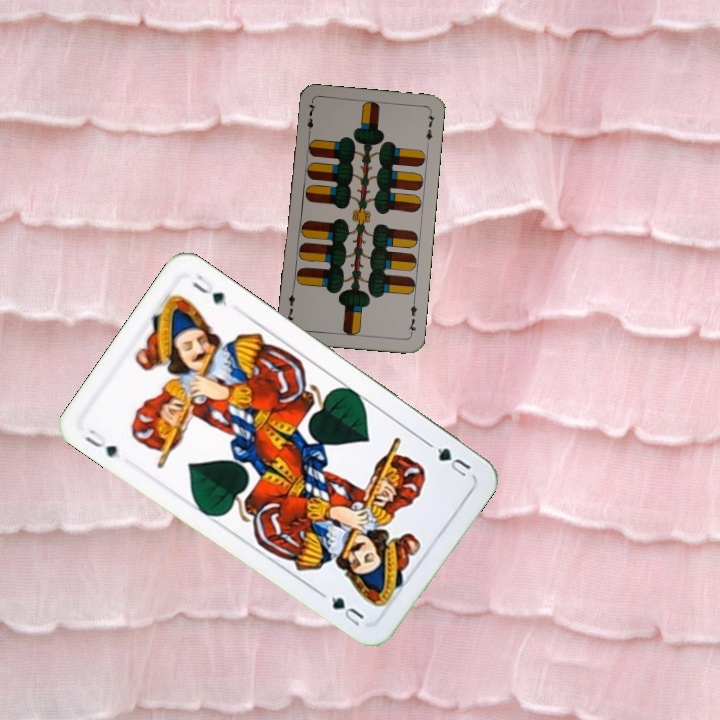E7: (404, 297, 419, 337), (303, 99, 318, 139)
GU: (431, 443, 474, 480), (80, 425, 123, 462)
